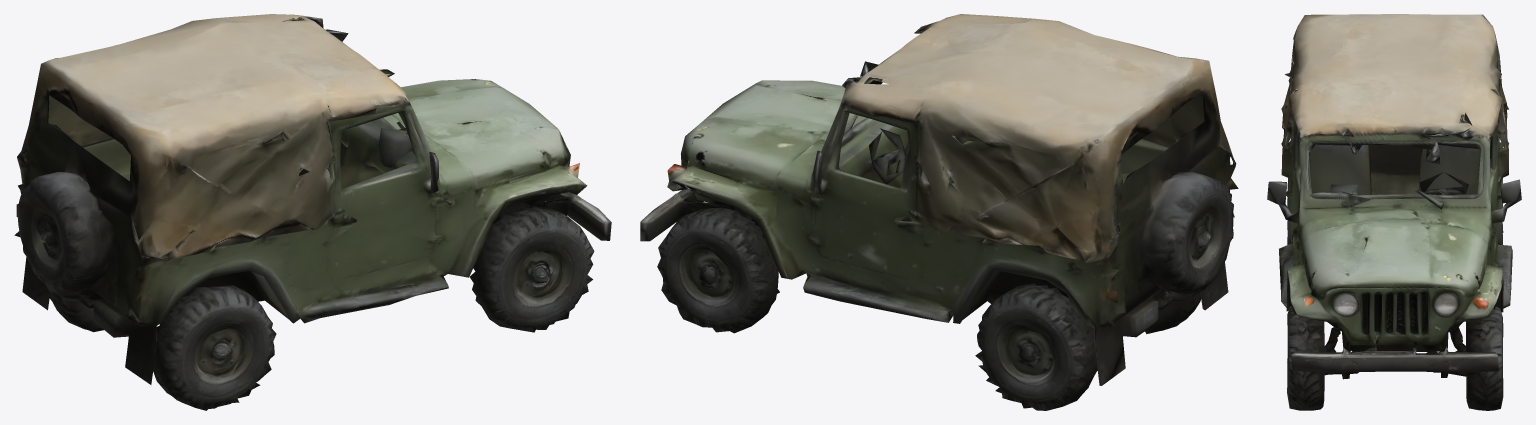
Rendered from ul_uaz.glb.
3 renders of one model, left to right at view 1: azimuth 30°, elevation 25°; view 2: azimuth 150°, elevation 25°; view 3: azimuth 270°, elevation 25°, orthographic. The views are drawn at different scales.
Parts seen in each view (by area): view 1: tripo_node_aa4ffce1-d52a-42f9-9961-60d5d1656b01; view 2: tripo_node_aa4ffce1-d52a-42f9-9961-60d5d1656b01; view 3: tripo_node_aa4ffce1-d52a-42f9-9961-60d5d1656b01.
Boxes of the visible parts, box(x1,y1,x2,y2) form: tripo_node_aa4ffce1-d52a-42f9-9961-60d5d1656b01: box(14, 14, 611, 410); tripo_node_aa4ffce1-d52a-42f9-9961-60d5d1656b01: box(640, 14, 1238, 410); tripo_node_aa4ffce1-d52a-42f9-9961-60d5d1656b01: box(1267, 14, 1521, 410).
Bounding box in the file's own units: 1 × 0.5397 × 0.5164.
Materials: 1 (1 with a texture image).
